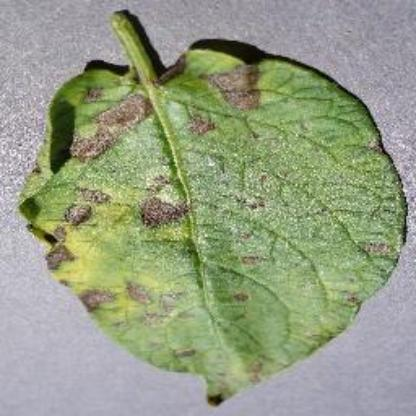Early-Blight: (22, 22, 411, 402)
